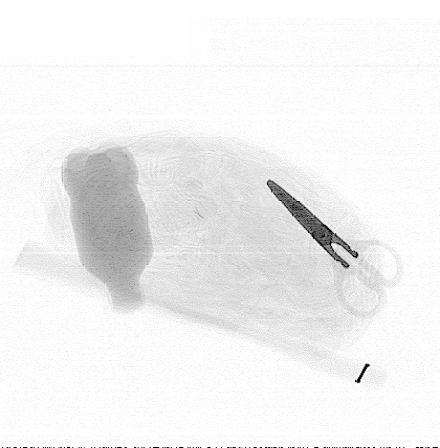Scissors: (265, 176, 405, 321)
